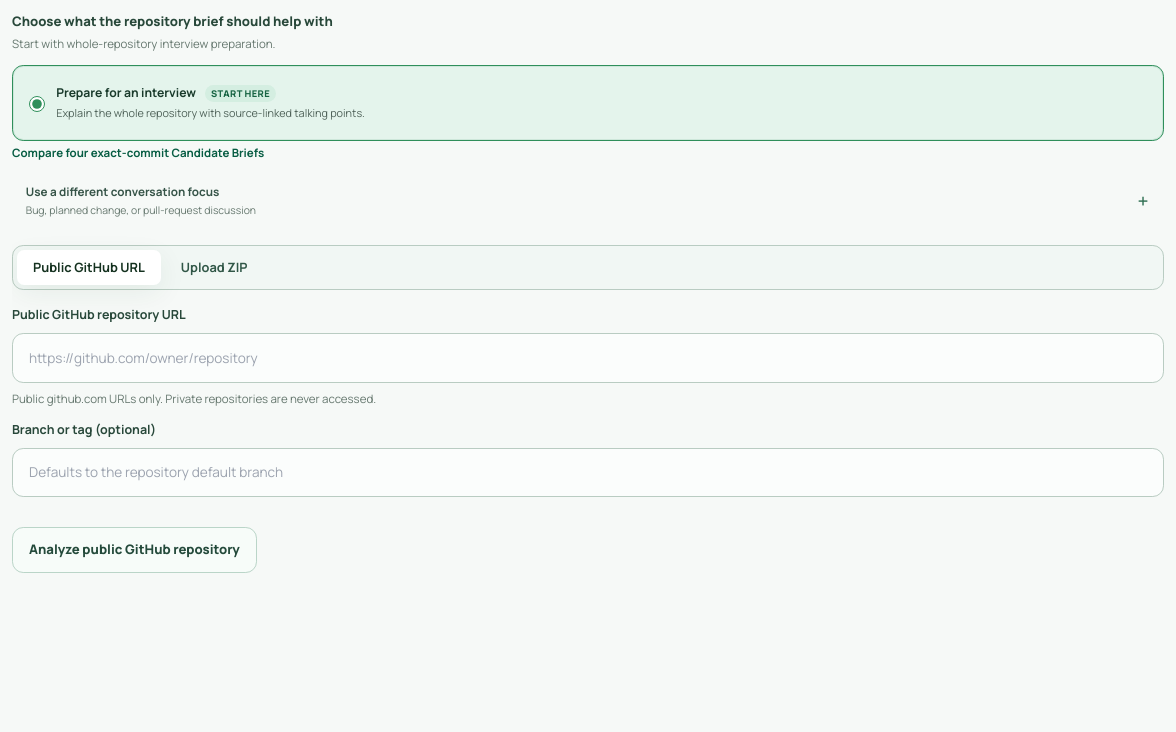
Test: InputForm › focuses the public GitHub input and restores interview intent
Step 1. Click the text "Use a different conversation focus" → (123, 192), box [26,184,219,200]
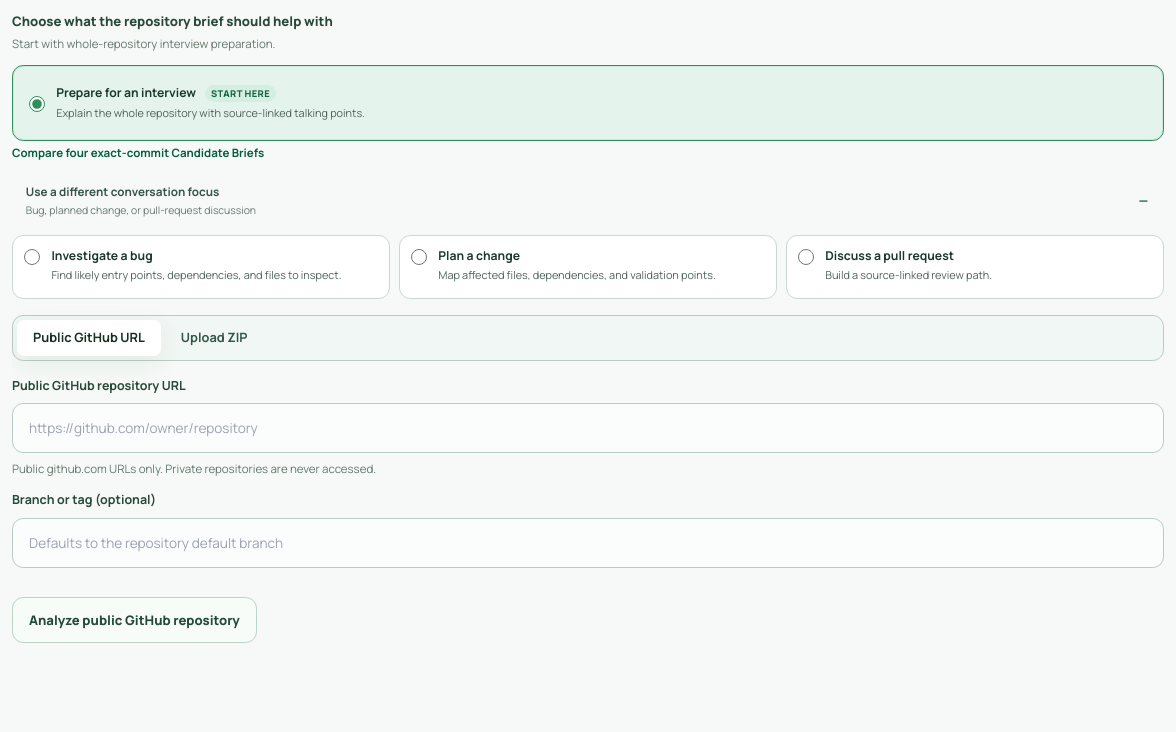
Step 2. Click the radio button labelled "Investigate a bug" → (32, 258), box [24,250,40,266]
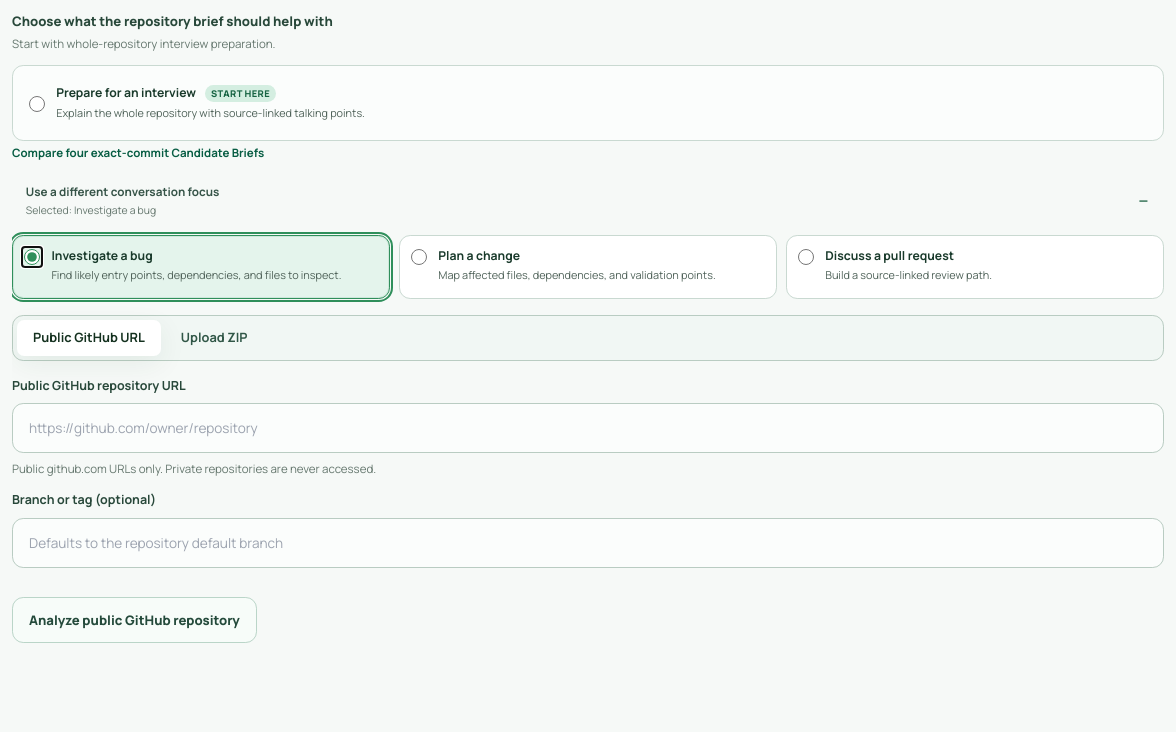
Step 3. Click the tab "Upload ZIP" → (214, 338), box [165,320,264,356]
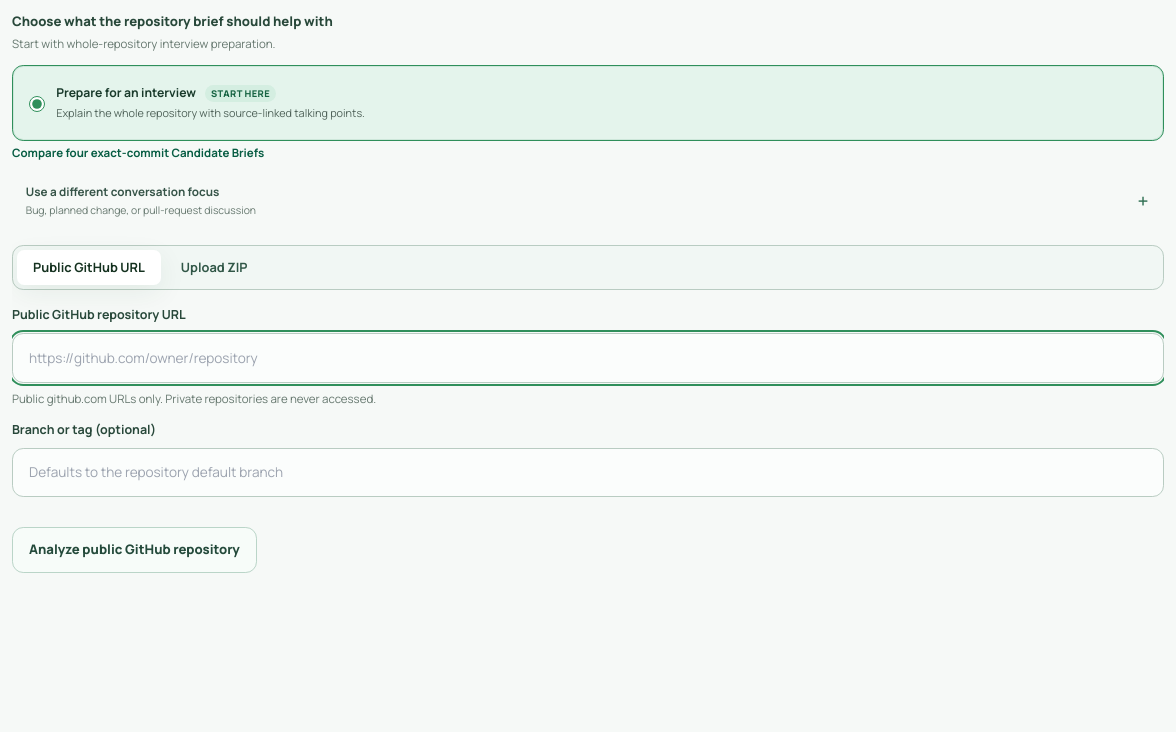
Expected: the radio button labelled "Prepare for an interview" is checked, [29,96,45,112]
Expected: the heading "Investigate a bug" is gone
